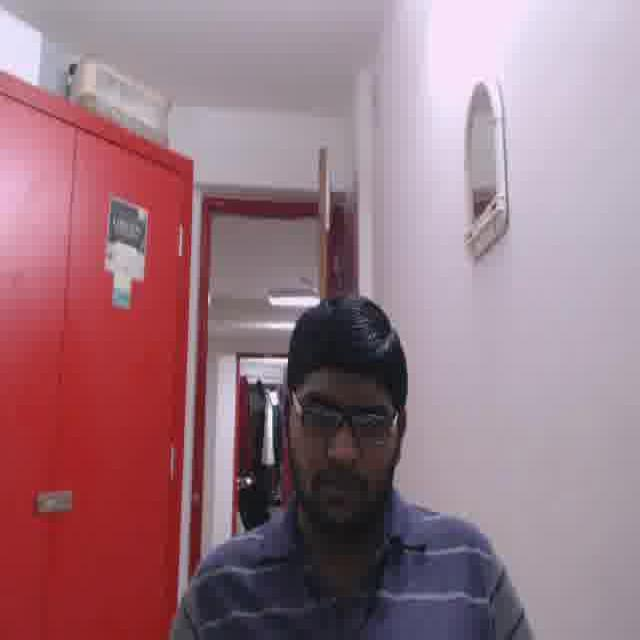Boredom: (288, 356, 397, 533)
